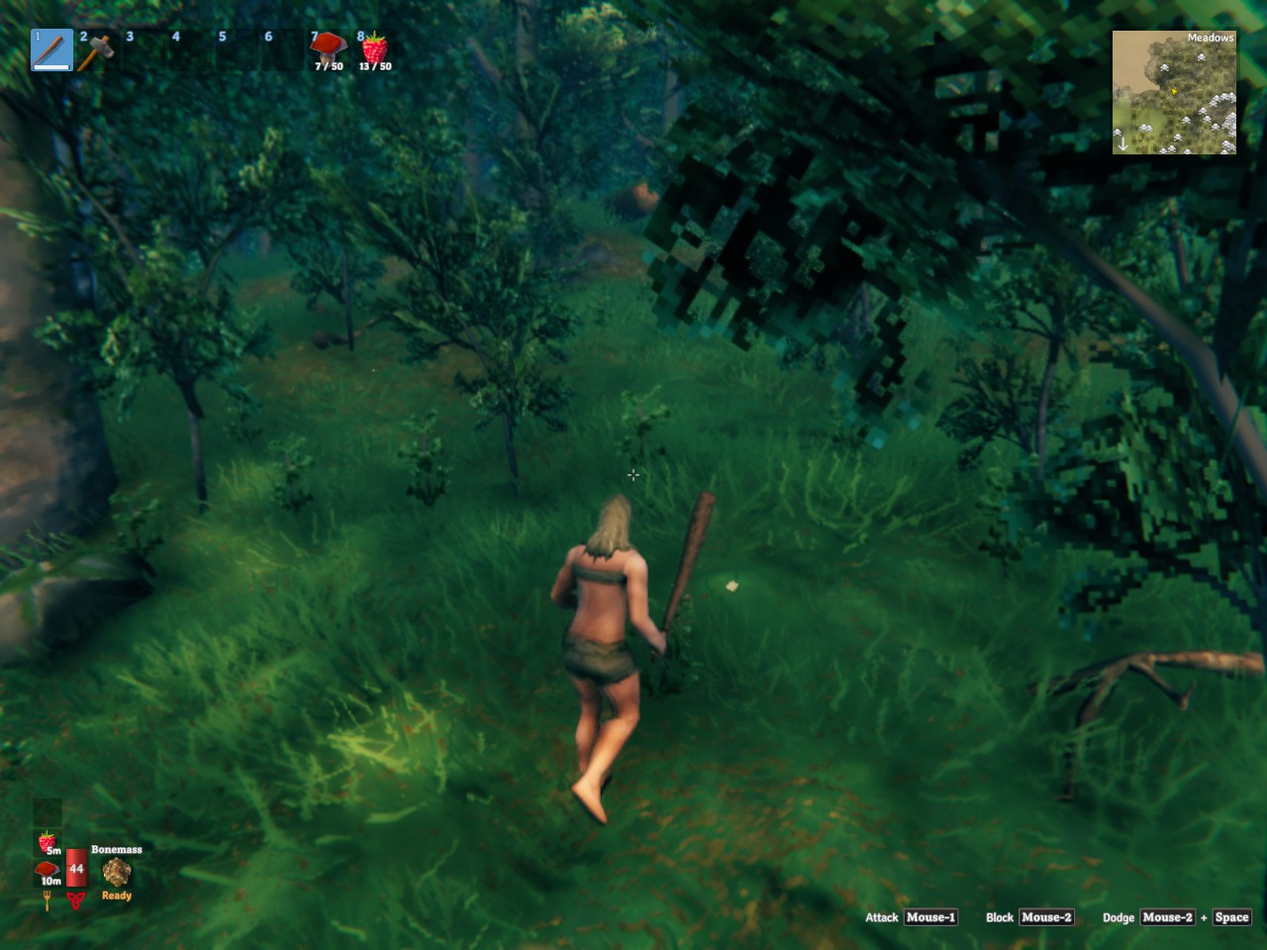Branch: (1041, 650, 1263, 728), (1058, 742, 1080, 801), (312, 331, 350, 348), (353, 321, 374, 337)
Food Indicator: (36, 797, 63, 891)
Health Bar: (63, 820, 90, 891)
Hotbar: (24, 21, 406, 80)
